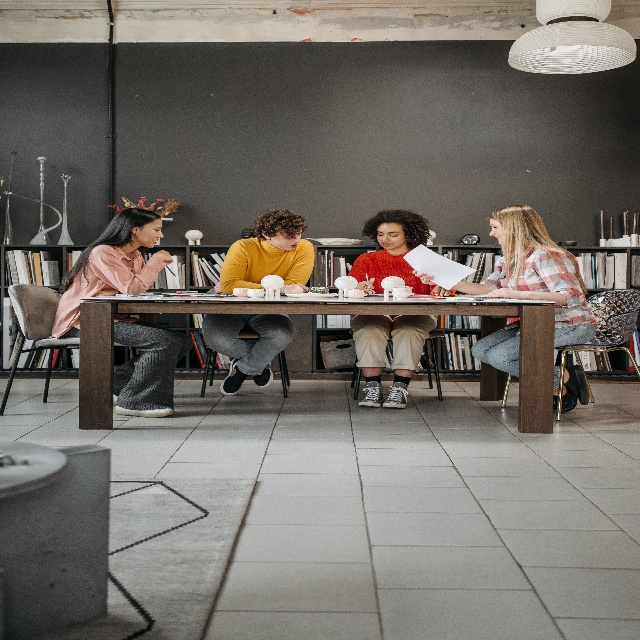Sin_guantes: (411, 266, 436, 287), (354, 276, 376, 297), (152, 247, 174, 267), (483, 286, 511, 299), (433, 284, 451, 299)
